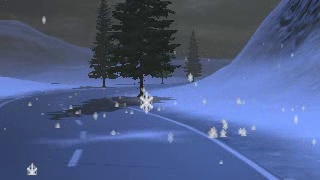Lane: (0, 83, 275, 179)
